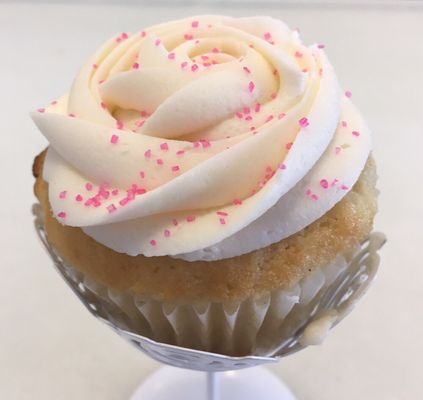burger: (66, 228, 386, 377)
